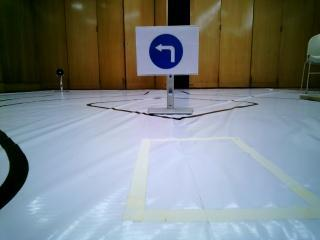left: (142, 29, 194, 76)
